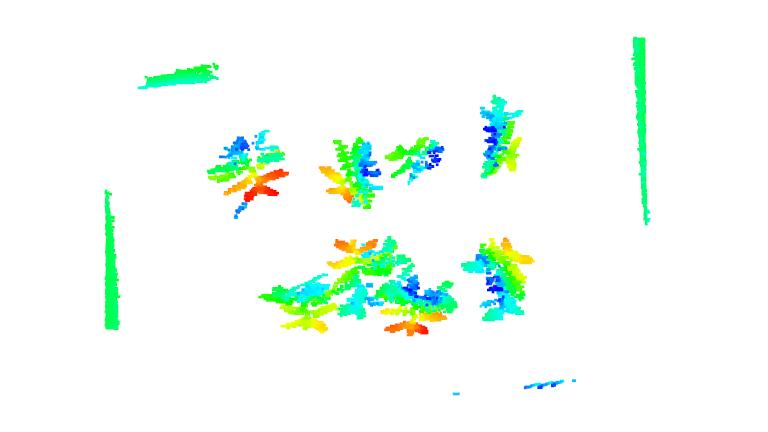chickpea: (205, 128, 298, 210), (326, 233, 406, 321), (459, 238, 532, 321), (318, 134, 384, 210), (259, 275, 342, 335), (380, 275, 459, 338), (474, 94, 530, 179), (382, 134, 450, 185)
